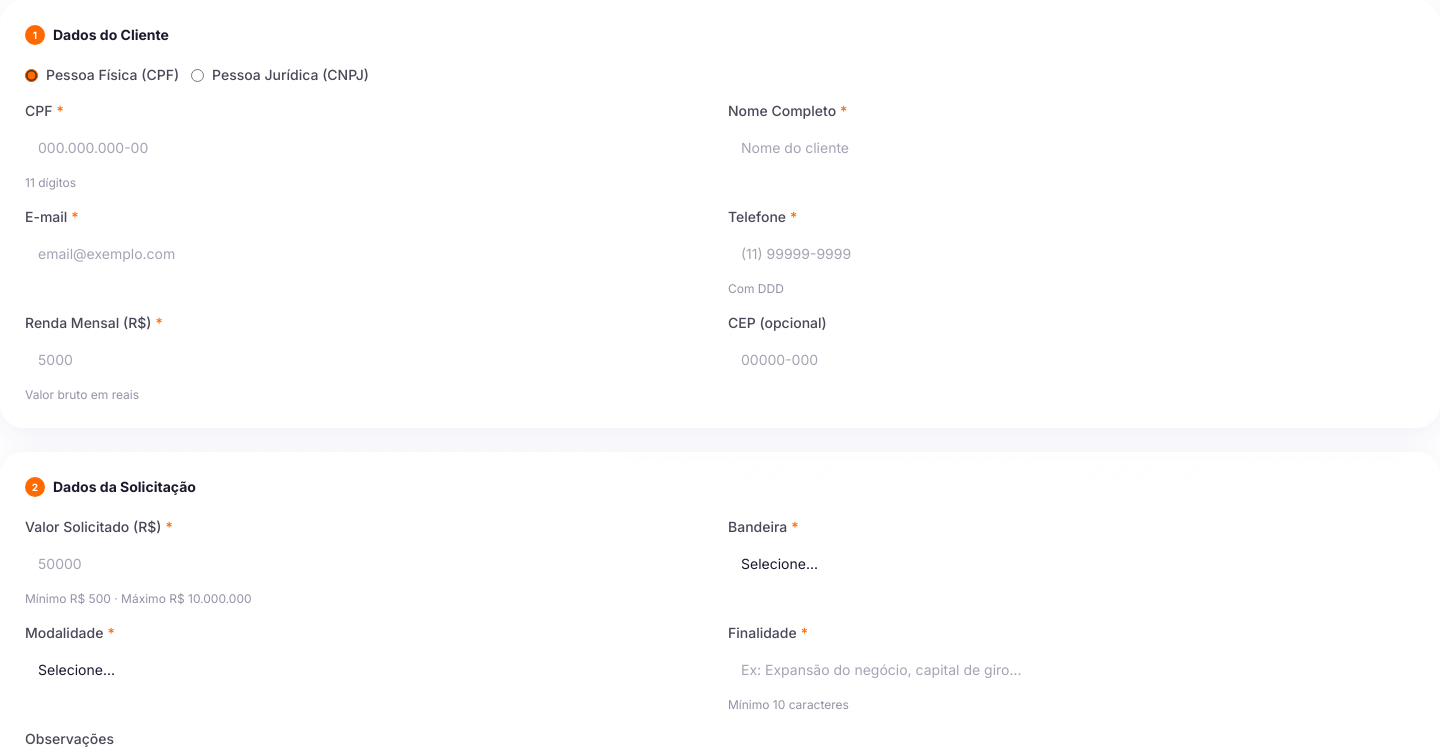
Test case: CreditRequestForm › CPF masking › applies CPF mask as the user types
Type "52998224725" into the field with placeholder "000.000.000-00" at (368, 148), box [25,127,712,169]
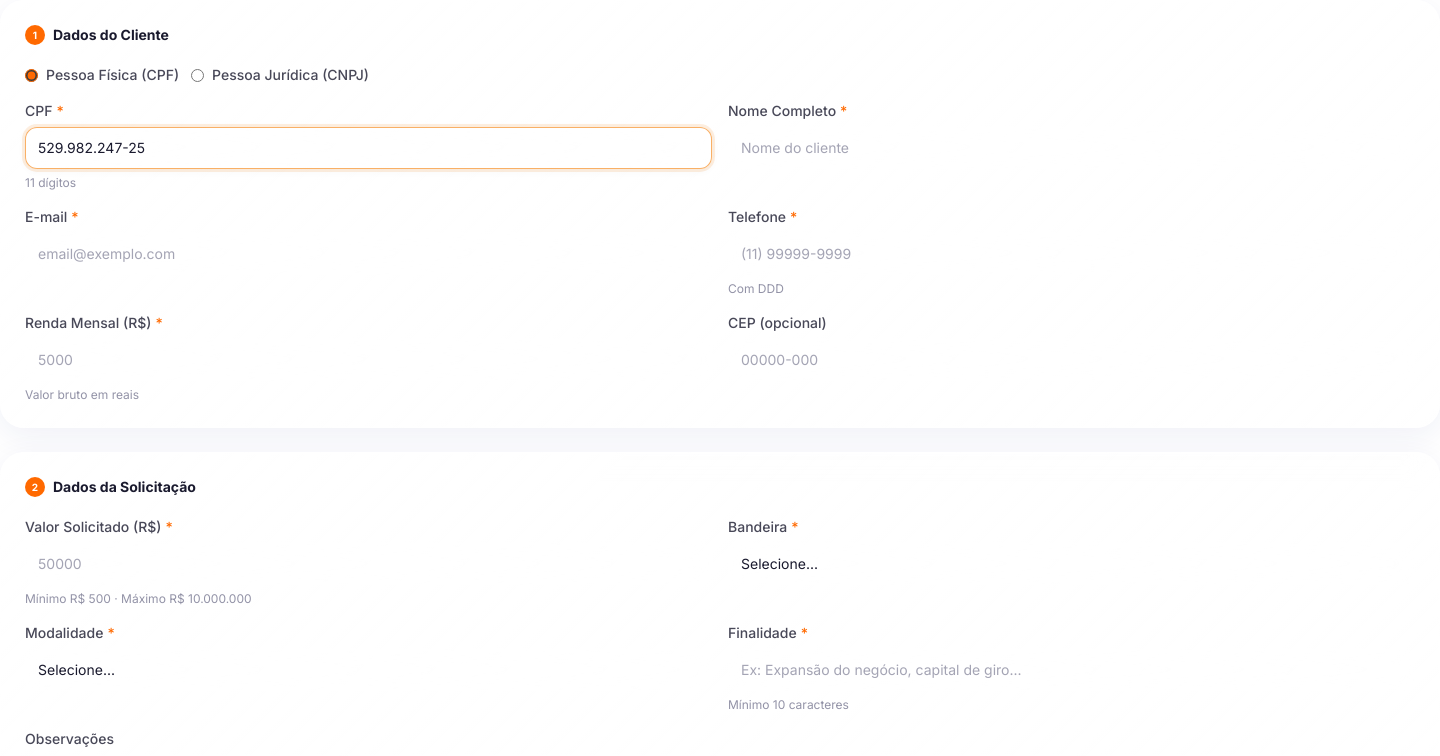
Expected: the field with placeholder "000.000.000-00" holds "529.982.247-25", [25,127,712,169]
